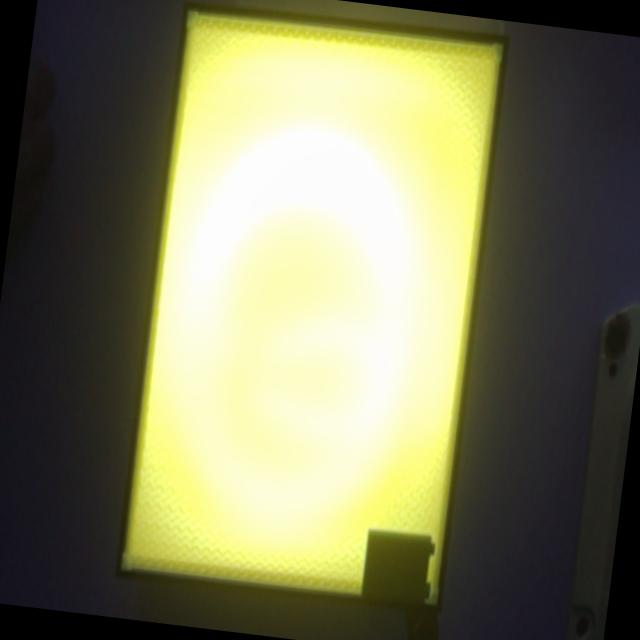bateria: (360, 530, 435, 603)
mesa: (115, 2, 508, 615)
